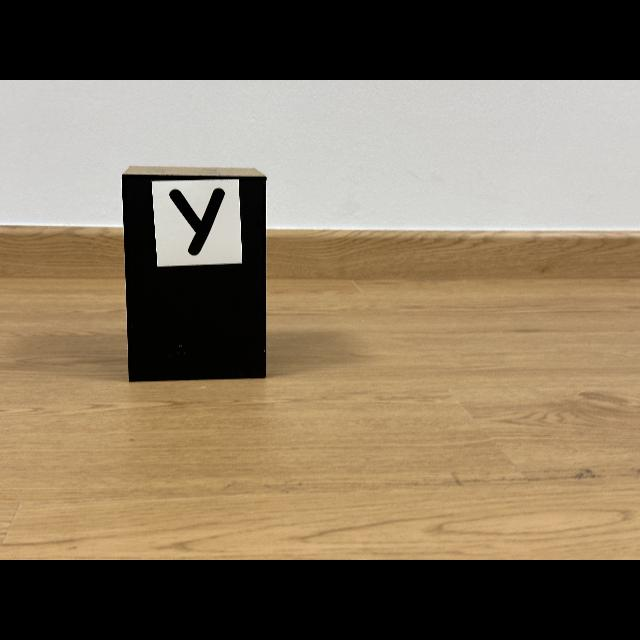Y: (169, 189, 225, 255)
